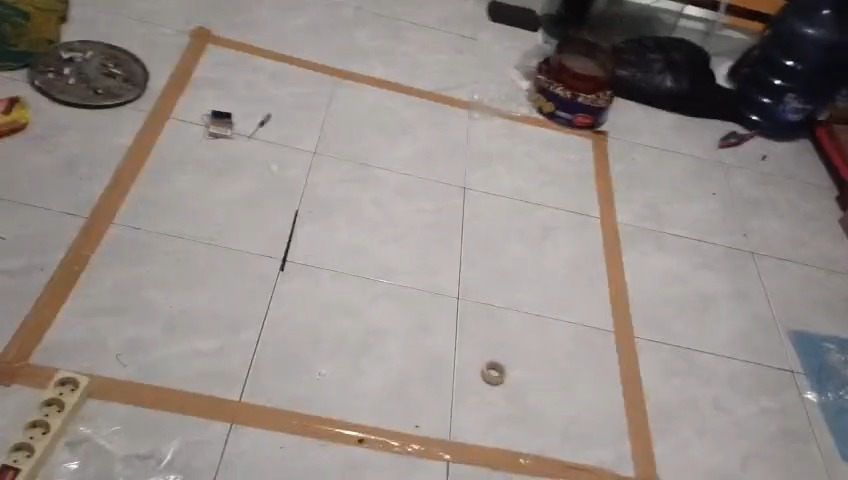floor marking: (0, 27, 657, 479)
